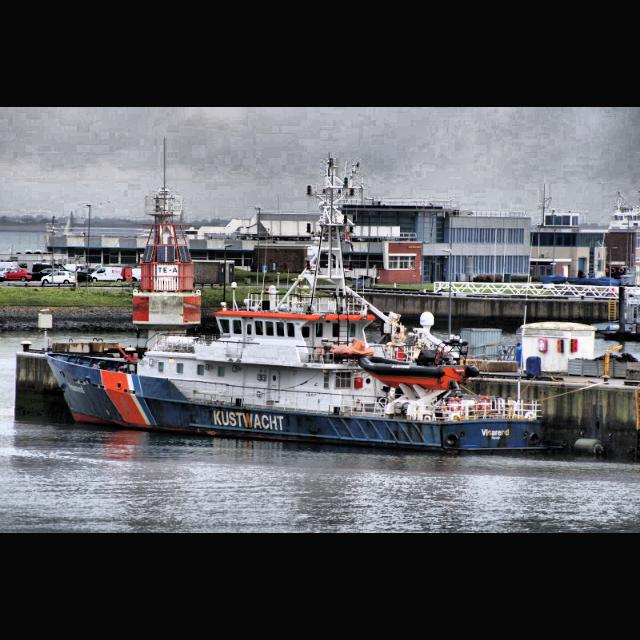patrol_vessel: (42, 255, 550, 455)
